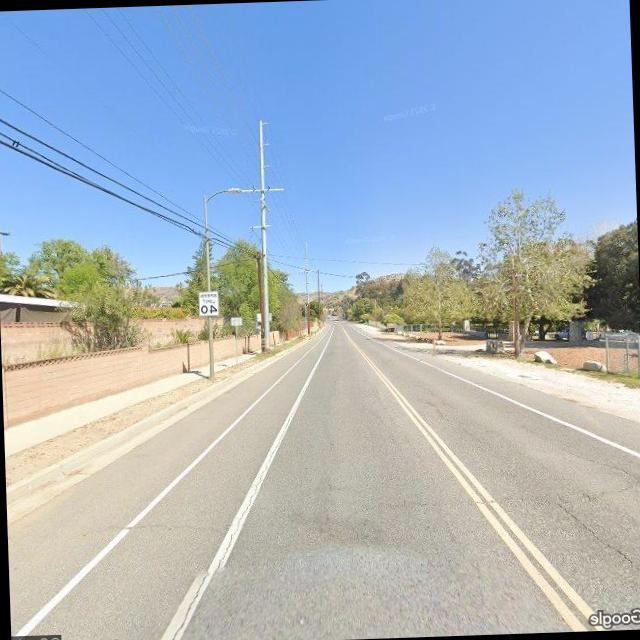crack: (80, 468, 640, 547), (170, 421, 294, 629), (548, 492, 640, 583)
